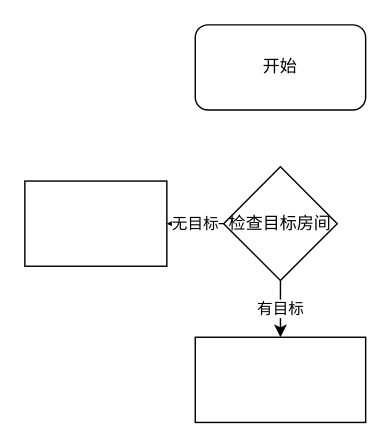
This 391x447 diagram has some shape labels left out. The centre of each missing label's shape, as x and y in pixels:
"寻找未探索房间" belongs at point (95, 223).
"移动到目标房间" belongs at point (280, 379).
